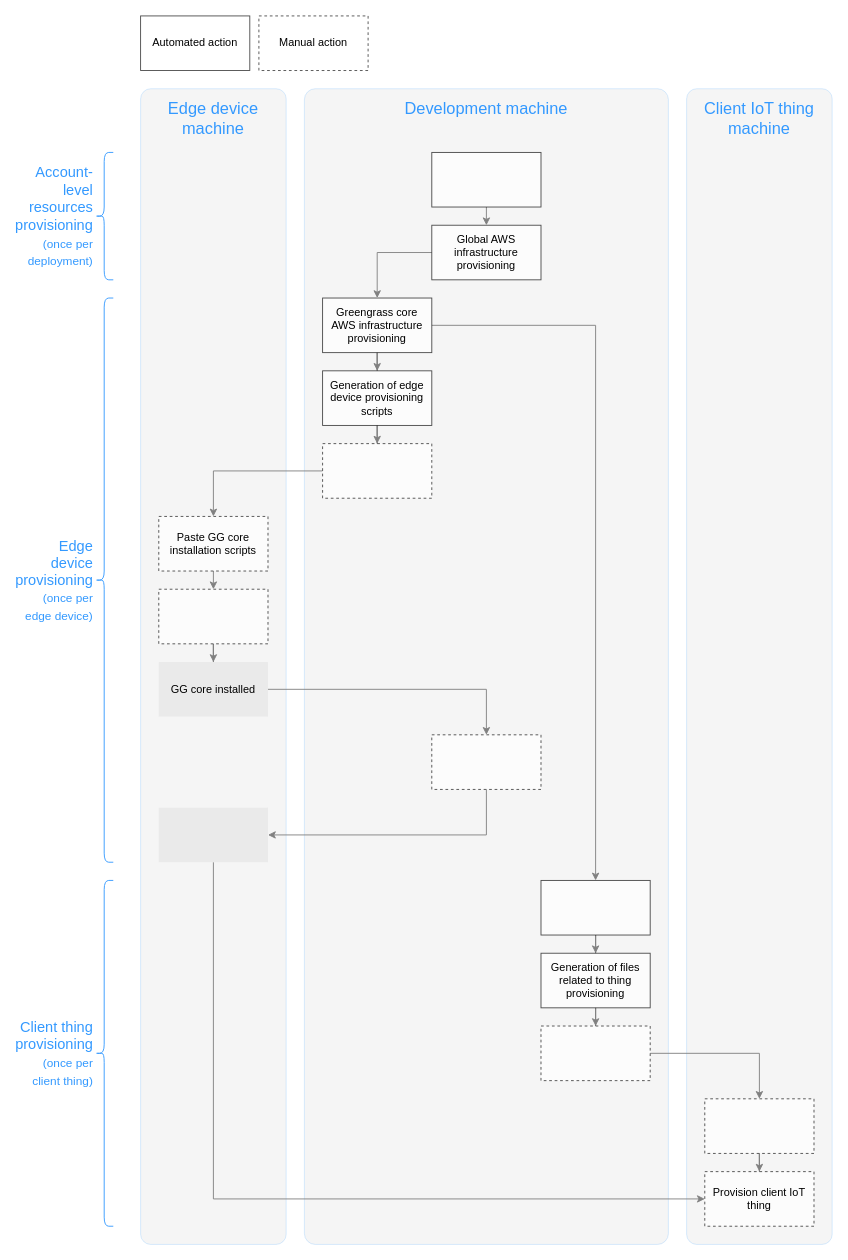
Some shapes in this 848 by 1260 pixel diagram are drawn without their labels. The shapes that lost their labels are listed below. From the top down, each one's centre as x and y in pixels, then its label:
At pixel 486 179: "Specifying configuration".
At pixel 377 470: "edge/scripts/out/ core Copy GG core installation scripts".
At pixel 213 616: "Execute scripts".
At pixel 486 761: "edge/scripts/out/ components Execute component deployment scripts".
At pixel 213 834: "GG device provisioned".
At pixel 595 907: "Client IoT thing AWS infrastructure provisioning".
At pixel 595 1053: "thing/out Copy".
At pixel 759 1125: "Paste".
